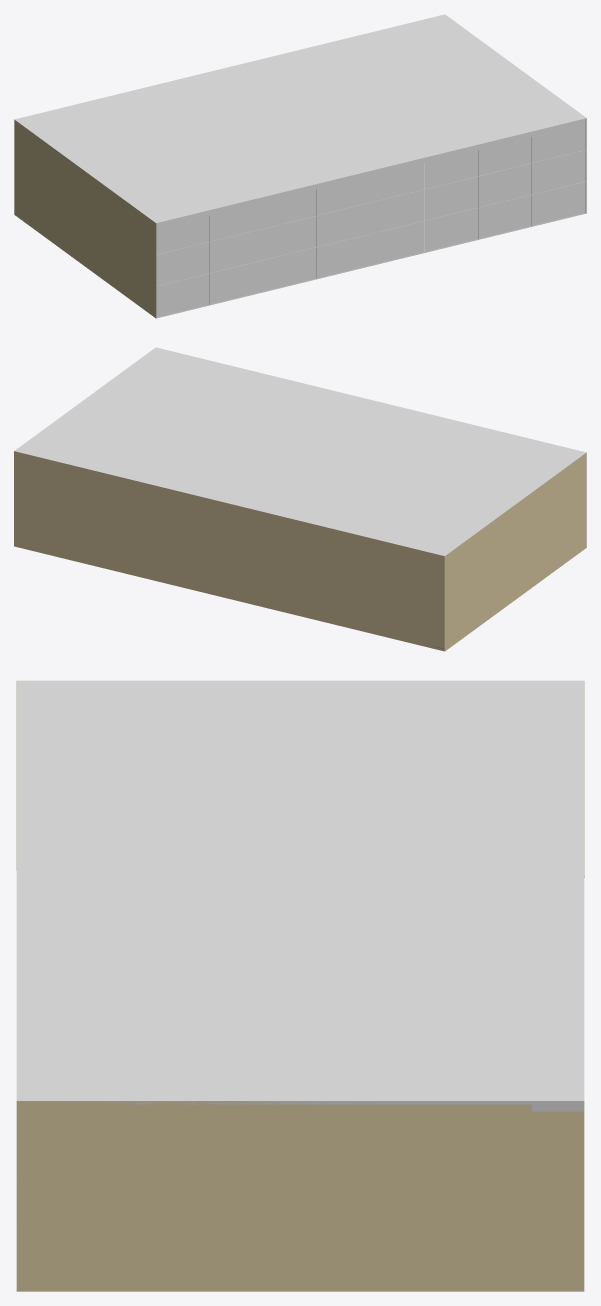
File: Garage.fbx
3 views of the same model, one above another, from view 1: azimuth 30°, elevation 25°; view 2: azimuth 150°, elevation 25°; view 3: azimuth 270°, elevation 25° (orthographic). The views are drawn at different scales.
Parts seen in each view (by area): view 1: Roof.001, Roof, Plane, Plane.001, Wall, Wall.001, Wall.004; view 2: Roof.001, Roof, Wall.002, Wall.003, Wall; view 3: Roof.001, Roof, Wall.005.
Boxes of the visible parts, x1,y1,x2,y2 form: Roof.001: [230, 14, 586, 175]; Roof: [14, 67, 370, 228]; Plane: [156, 176, 369, 317]; Plane.001: [372, 124, 584, 264]; Wall: [14, 120, 156, 318]; Wall.001: [155, 171, 371, 318]; Wall.004: [371, 118, 586, 265]; Roof.001: [14, 347, 370, 503]; Roof: [230, 400, 586, 556]; Wall.002: [229, 504, 444, 651]; Wall.003: [14, 451, 229, 598]; Wall: [444, 453, 586, 651]; Roof.001: [17, 890, 583, 1111]; Roof: [17, 680, 583, 890]; Wall.005: [16, 1101, 584, 1291].
Bounding box in the file's own units: 5439 × 1149 × 3103.
